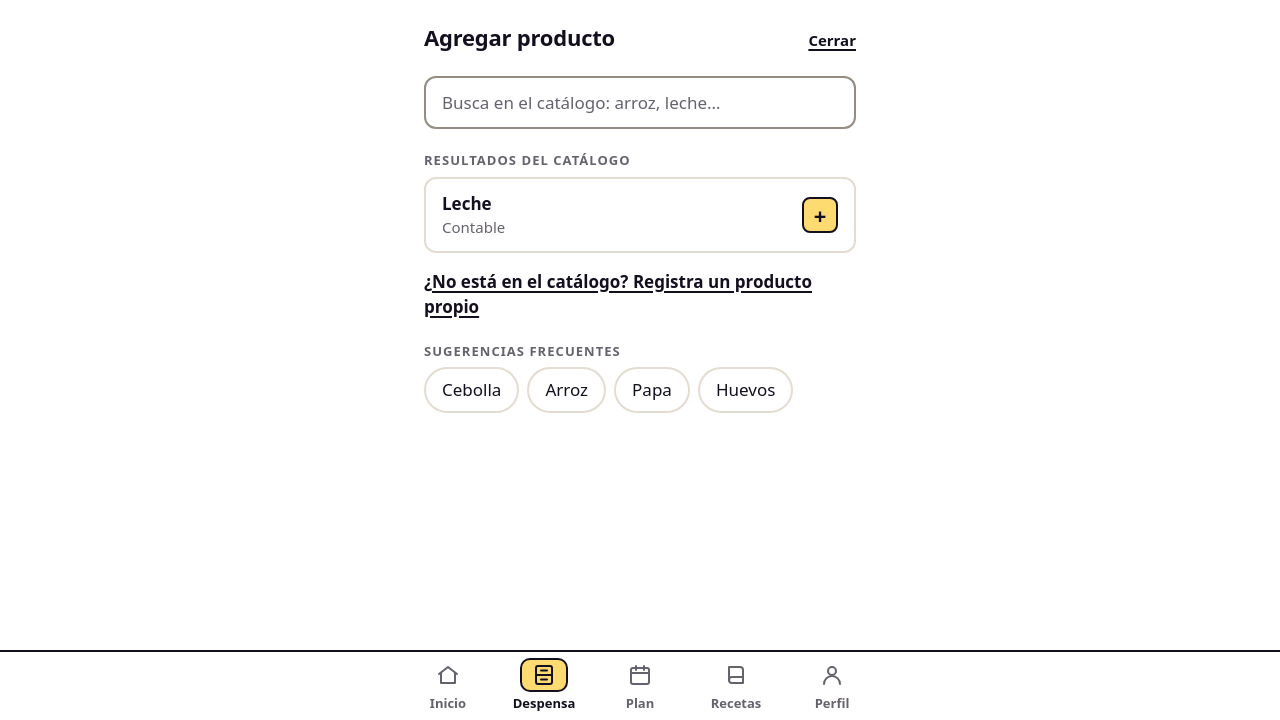
Test: Despensa › un producto contable se cuenta con los botones de más y menos
The image size is (1280, 720).
Click the button "Leche Contable +" at {"x": 475, "y": 202}, box [424, 177, 856, 253]
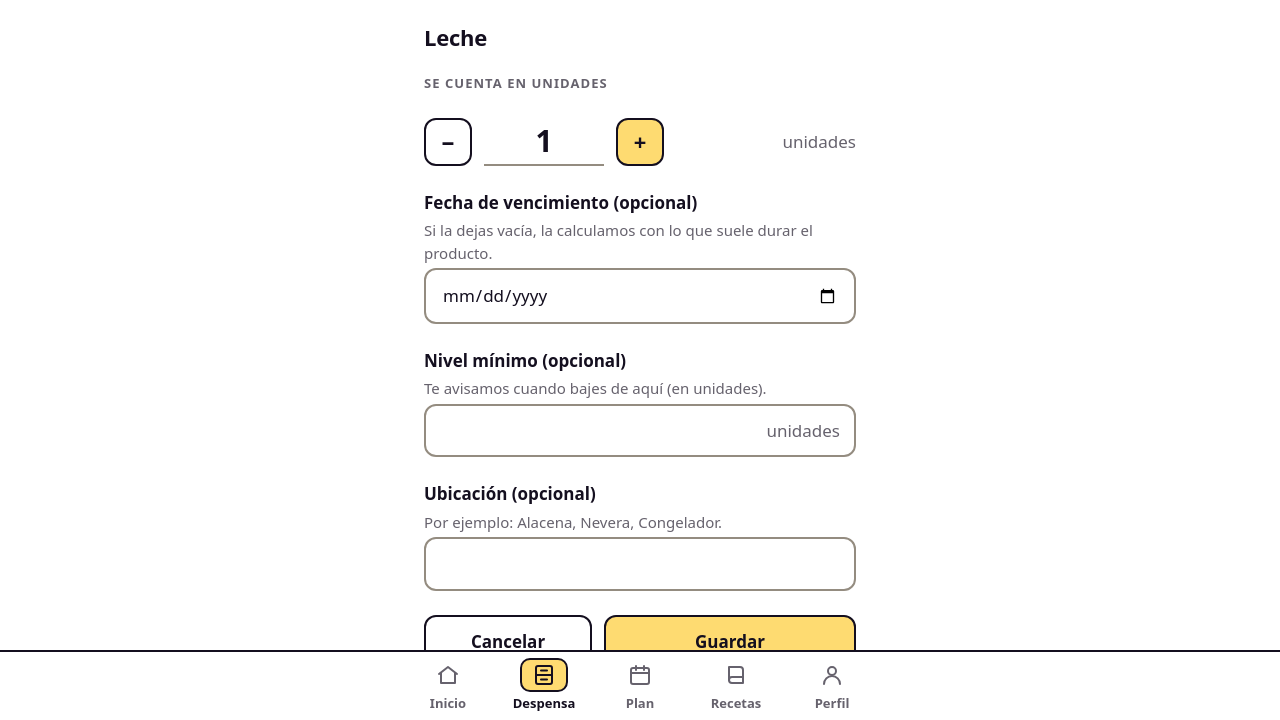
Click the button named "Agregar uno" at {"x": 640, "y": 142}, box [616, 118, 664, 166]
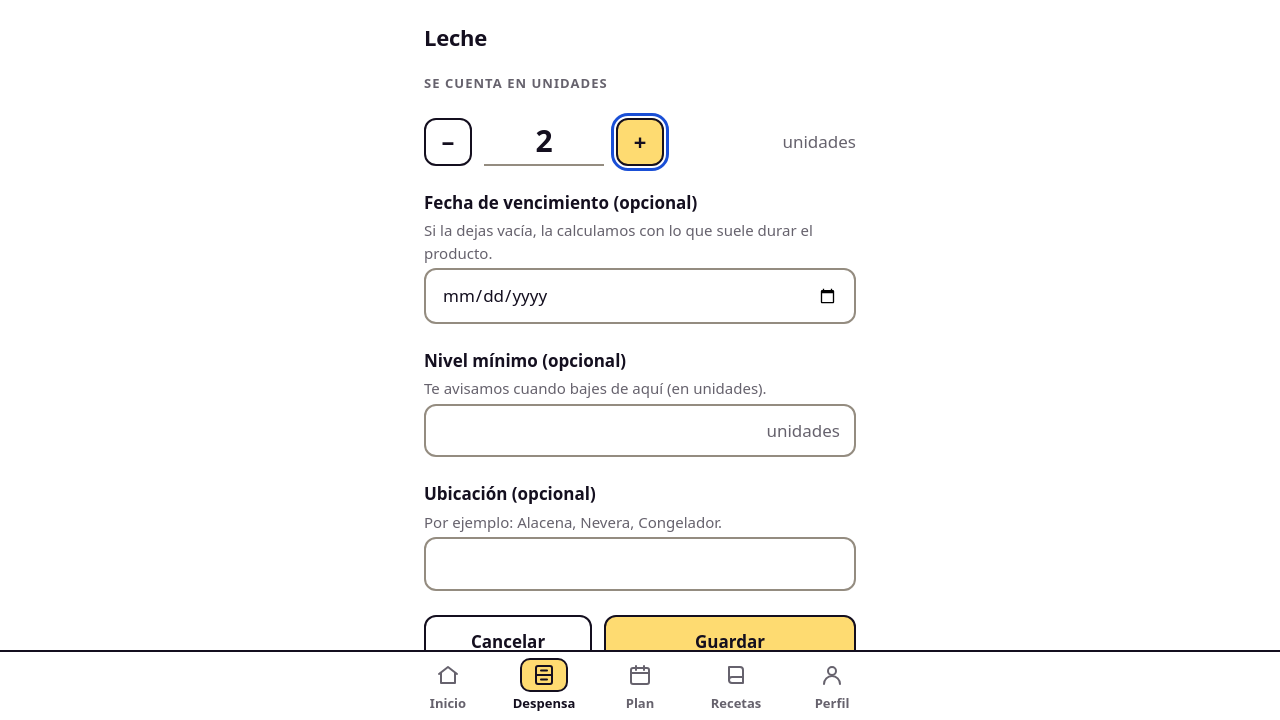
Click the button named "Agregar uno" at {"x": 640, "y": 142}, box [616, 118, 664, 166]
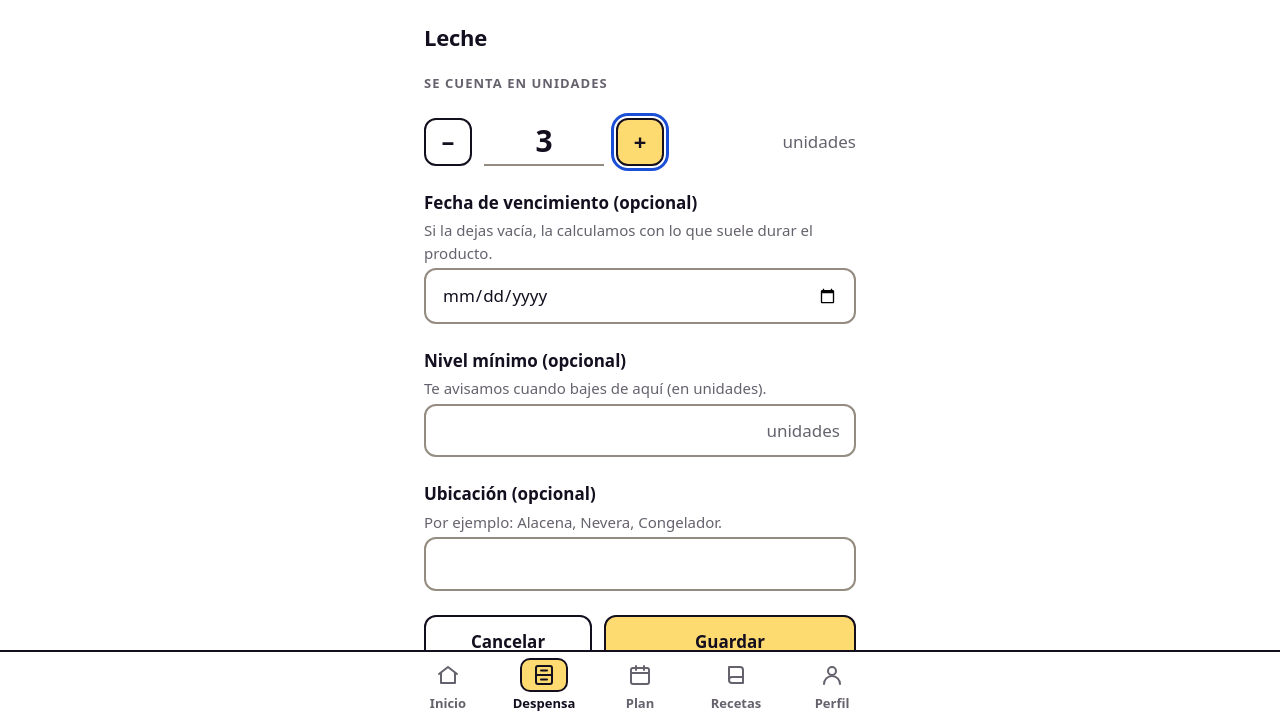
Type "1" into the field labelled "Nivel mínimo (opcional)" at {"x": 640, "y": 431}, box [424, 404, 856, 457]
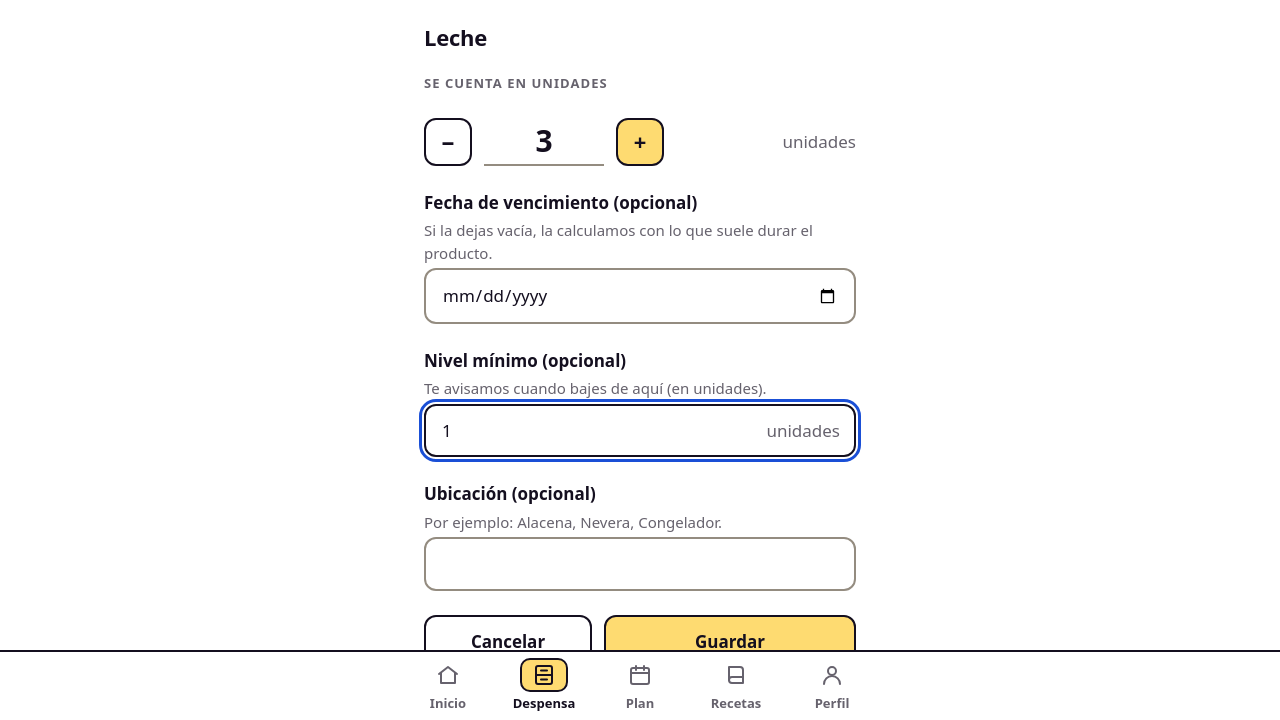
Click the button "Guardar" at {"x": 730, "y": 642}, box [604, 615, 856, 668]
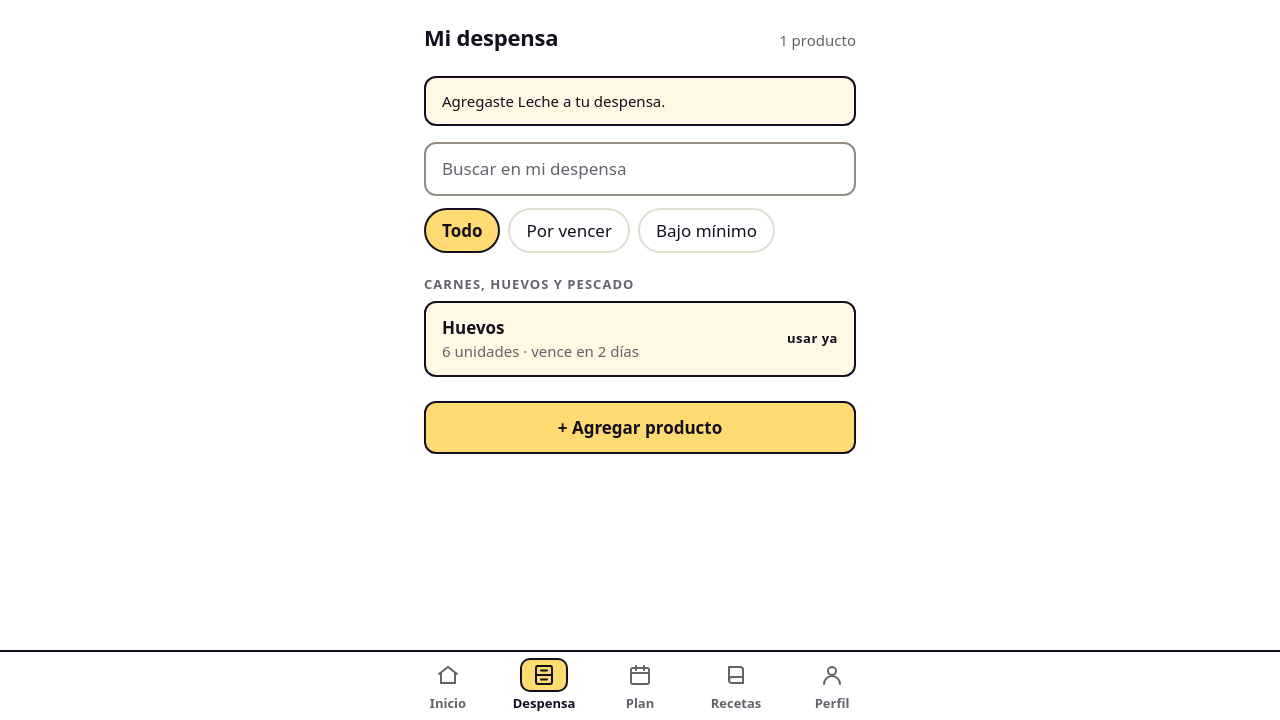
Check: the text "Agregaste Leche a tu despensa." is shown, box [424, 76, 856, 126]
